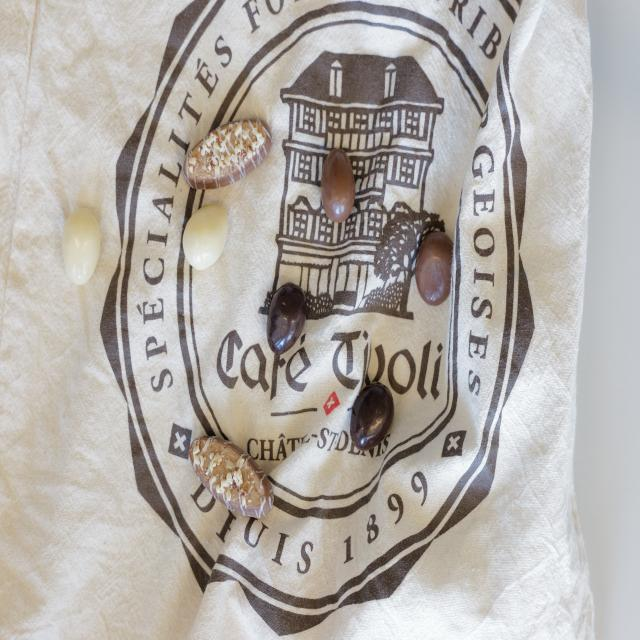Amandina: (188, 436, 274, 520), (184, 118, 272, 189)
Jelly_Black: (348, 382, 394, 452), (266, 283, 306, 355)
Jelly_Milk: (415, 232, 453, 306), (321, 148, 355, 222)
Jelly_White: (62, 207, 100, 285), (182, 206, 229, 269)
